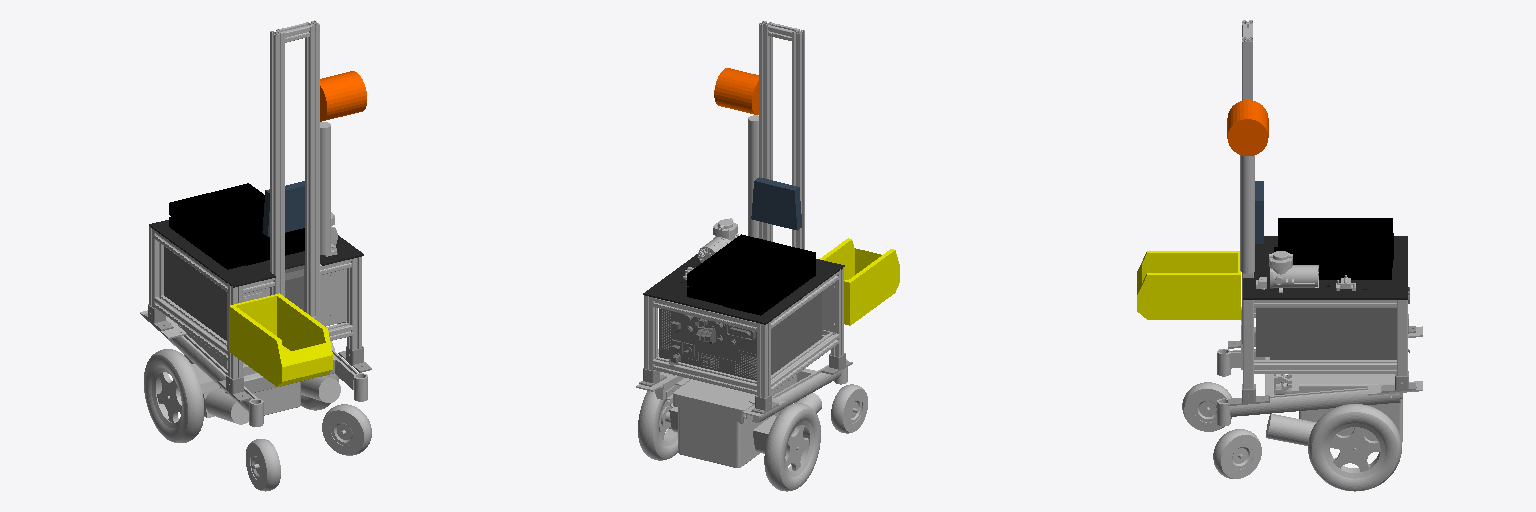
--- Facts derived from the render (not from the file) ---
The picture shows the robot from 3 angles, left to right: view 1: azimuth 30°, elevation 25°; view 2: azimuth 150°, elevation 25°; view 3: azimuth 270°, elevation 25°; orthographic projection.
Robot: abby — 29 links, 28 joints (6 continuous, 22 fixed); root link frame1; default pose: all joints at 0.
Links seen in each view (by area): view 1: frame1, bin, frame_solid:11, PC1, r_drive wheel1, IRC5_Compact1, top_plate1, l_caster_wheel1, light, r_caster_wheel1, tanks, router1; view 2: frame1, frame_solid:11, IRC5_Compact1, PC1, r_drive wheel1, bin, top_plate1, router1, l_drive_wheel1, light, r_caster_wheel1, tanks (+1 smaller); view 3: frame_solid:11, IRC5_Compact1, bin, PC1, frame1, l_drive_wheel1, top_plate1, light, l_caster_wheel1, tanks, r_caster_wheel1, compressor1 (+1 smaller).
Boxes of the visible links, bbox=[...] form: frame1: bbox=[149, 20, 361, 378]; bin: bbox=[229, 293, 332, 386]; frame_solid:11: bbox=[167, 323, 367, 426]; PC1: bbox=[169, 183, 304, 269]; r_drive wheel1: bbox=[144, 349, 203, 442]; IRC5_Compact1: bbox=[164, 246, 329, 340]; top_plate1: bbox=[149, 220, 363, 287]; l_caster_wheel1: bbox=[322, 404, 371, 455]; light: bbox=[320, 71, 366, 121]; r_caster_wheel1: bbox=[246, 439, 280, 491]; tanks: bbox=[320, 122, 330, 254]; router1: bbox=[262, 181, 304, 236]; frame1: bbox=[644, 21, 843, 397]; frame_solid:11: bbox=[655, 359, 847, 467]; IRC5_Compact1: bbox=[659, 292, 821, 380]; PC1: bbox=[687, 234, 815, 315]; r_drive wheel1: bbox=[764, 403, 820, 491]; bin: bbox=[820, 238, 899, 325]; top_plate1: bbox=[643, 254, 844, 324]; router1: bbox=[751, 177, 801, 230]; l_drive_wheel1: bbox=[638, 391, 677, 460]; light: bbox=[714, 68, 758, 114]; r_caster_wheel1: bbox=[831, 384, 867, 433]; tanks: bbox=[748, 115, 758, 237]; frame_solid:11: bbox=[1217, 349, 1402, 451]; IRC5_Compact1: bbox=[1256, 287, 1409, 359]; bin: bbox=[1137, 251, 1240, 319]; PC1: bbox=[1274, 218, 1393, 279]; frame1: bbox=[1241, 20, 1407, 396]; l_drive_wheel1: bbox=[1308, 404, 1401, 491]; top_plate1: bbox=[1243, 236, 1407, 299]; light: bbox=[1227, 100, 1268, 155]; l_caster_wheel1: bbox=[1213, 429, 1261, 478]; tanks: bbox=[1240, 155, 1254, 273]; r_caster_wheel1: bbox=[1182, 382, 1231, 431]; compressor1: bbox=[1269, 251, 1318, 292].
Size in the robot's own frame: 0.6308 by 1.05 by 1.72 metres.
Meshes: 19 distinct files referenced, 20 mesh visuals loaded (15 binary STL); not drawn: 6 (reference not matched to a file when rendering).

The robot description file, URDF, robot "abby":
<?xml version="1.0" ?>
<!-- =================================================================================== -->
<!-- |    This document was autogenerated by xacro from abby_no_arm.xacro              | -->
<!-- |    EDITING THIS FILE BY HAND IS NOT RECOMMENDED                                 | -->
<!-- =================================================================================== -->
<robot name="abby" xmlns:controller="http://playerstage.sourceforge.net/gazebo/xmlschema/#controller" xmlns:interface="http://playerstage.sourceforge.net/gazebo/xmlschema/#interface" xmlns:sensor="http://playerstage.sourceforge.net/gazebo/xmlschema/#sensor" xmlns:xacro="http://ros.org/wiki/xacro">
  <joint name="base_laser_joint" type="fixed">
    <origin rpy="1.5707959092 0 -3.14159265358" xyz="-0.0255468119868 -0.474758386705 0.311455920061"/>
    <parent link="frame1"/>
    <origin rpy="0 0 0" xyz="0 0 0"/>
    <child link="SICK_LMS291"/>
  </joint>
  <link name="SICK_LMS291">
    <visual>
      <geometry>
        <mesh filename="package://cwru_description/meshes/sick_lms291.stl" scale="0.0254 0.0254 0.0254"/>
      </geometry>
      <origin rpy="0 0 0" xyz="-0.0683999139953 -0.00245779587475 -0.0929987962566"/>
      <material name="SICK_LMS2911_color">
        <color rgba="0.752941 0.752941 0.752941 1"/>
      </material>
    </visual>
    <inertial>
      <mass value="3.71737544502"/>
      <inertia ixx="0.0174805834039" ixy="-4.4195210288e-07" ixz="4.1599227461e-07" iyy="0.0127643577208" iyz="0.00072853444335" izz="0.0175041992098"/>
      <origin rpy="0 0 0" xyz="-0.0684016920036 0.0653465146418 -0.0708751847642"/>
    </inertial>
    <collision>
      <geometry>
        <mesh filename="package://cwru_description/meshes/sick_lms291.stl" scale="0.0254 0.0254 0.0254"/>
      </geometry>
      <origin rpy="0 0 0" xyz="-0.0683999139953 -0.00245779587475 -0.0929987962566"/>
    </collision>
  </link>
  <link name="base_laser1_link">
    <inertial>
      <mass value="0.01"/>
      <origin xyz="0 0 0"/>
      <inertia ixx="0.001" ixy="0.0" ixz="0.0" iyy="0.001" iyz="0.0" izz="0.001"/>
    </inertial>
  </link>
  <joint name="SICK_laser_frame_joint" type="fixed">
    <origin rpy="1.266 1.571 2.837" xyz="-0.0683999139953 0.035 -0.0273"/>
    <parent link="SICK_LMS291"/>
    <child link="base_laser1_link"/>
  </joint>
  <link name="frame1">
    <visual>
      <geometry>
        <mesh filename="package://abby_description/meshes/al_frame_iam_3826baa4.stl" scale="0.0254 0.0254 0.0254"/>
      </geometry>
      <origin rpy="0 0 0" xyz="0.0446356739978 0.177065647653 -0.0893087163603"/>
      <material name="frame1_color">
        <color rgba="0.752941 0.752941 0.752941 1"/>
      </material>
    </visual>
    <inertial>
      <mass value="12.7774249075"/>
      <inertia ixx="2.11995607184" ixy="-0.0128393605839" ixz="-0.0068818565379" iyy="1.84586933127" iyz="0.34872380742" izz="1.11710077832"/>
      <origin rpy="0 0 0" xyz="0.0382793240557 -0.271251963735 0.649589084908"/>
    </inertial>
    <collision>
      <geometry>
        <mesh filename="package://abby_description/meshes/al_frame_iam_3826baa4.stl" scale="0.0254 0.0254 0.0254"/>
      </geometry>
      <origin rpy="0 0 0" xyz="0.0446356739978 0.177065647653 -0.0893087163603"/>
    </collision>
  </link>
  <link name="f_r_frame_bracket1">
    <visual>
      <geometry>
        <mesh filename="package://abby_description/meshes/frame bracket_ipt_f5a4f28d.stl" scale="0.0254 0.0254 0.0254"/>
      </geometry>
      <origin rpy="0 0 0" xyz="-0.0946635865578 -0.0205552039632 -0.424782665556"/>
      <material name="f_r_frame_bracket1_color">
        <color rgba="0.639216 0.639216 0.639216 1"/>
      </material>
    </visual>
    <inertial>
      <mass value="0.71440798275"/>
      <inertia ixx="0.00043051877529" ixy="0.0" ixz="-1.18150140291e-05" iyy="0.00109167940213" iyz="0.0" izz="0.00105983757016"/>
      <origin rpy="0 0 0" xyz="-0.0175668955453 0.00484479603152 -0.408054413923"/>
    </inertial>
    <collision>
      <geometry>
        <mesh filename="package://abby_description/meshes/frame bracket_ipt_f5a4f28d.stl" scale="0.0254 0.0254 0.0254"/>
      </geometry>
      <origin rpy="0 0 0" xyz="-0.0946635865578 -0.0205552039632 -0.424782665556"/>
    </collision>
  </link>
  <joint name="frame--f_r_frame_bracket1" type="fixed">
    <parent link="frame1"/>
    <child link="f_r_frame_bracket1"/>
    <origin rpy="0 -0.0938814541614 1.5707963268" xyz="-0.197196963951 -0.46840807491 0.660027160644"/>
  </joint>
  <link name="f_l_frame_bracket1">
    <visual>
      <geometry>
        <mesh filename="package://abby_description/meshes/frame bracket_ipt_f5a4f28d.stl" scale="0.0254 0.0254 0.0254"/>
      </geometry>
      <origin rpy="0 0 0" xyz="-0.050800692836 -0.0508000000121 -0.00634958439213"/>
      <material name="f_l_frame_bracket1_color">
        <color rgba="0.639216 0.639216 0.639216 1"/>
      </material>
    </visual>
    <inertial>
      <mass value="0.71440798275"/>
      <inertia ixx="0.00043051877529" ixy="0.0" ixz="-1.18150140291e-05" iyy="0.00109167940213" iyz="0.0" izz="0.00105983757016"/>
      <origin rpy="0 0 0" xyz="0.026295998169 -0.025399999994 0.0103786672398"/>
    </inertial>
    <collision>
      <geometry>
        <mesh filename="package://abby_description/meshes/frame bracket_ipt_f5a4f28d.stl" scale="0.0254 0.0254 0.0254"/>
      </geometry>
      <origin rpy="0 0 0" xyz="-0.050800692836 -0.0508000000121 -0.00634958439213"/>
    </collision>
  </link>
  <joint name="f_l_frame_bracket--f_r_frame_bracket1" type="fixed">
    <parent link="f_r_frame_bracket1"/>
    <child link="f_l_frame_bracket1"/>
    <origin rpy="0 0 0" xyz="-0.0438628937327 -0.464082383966 -0.418433081198"/>
  </joint>
  <link name="f_l_frame_plate1">
    <visual>
      <geometry>
        <mesh filename="package://abby_description/meshes/front frame plate_ipt_3e5bfe16.stl" scale="0.0254 0.0254 0.0254"/>
      </geometry>
      <origin rpy="0 0 0" xyz="0 0 0"/>
      <material name="f_l_frame_plate1_color">
        <color rgba="0.752941 0.752941 0.752941 1"/>
      </material>
    </visual>
    <inertial>
      <mass value="0.072583397455"/>
      <inertia ixx="0.000139975007751" ixy="0.0" ixz="0.0" iyy="3.5475798236e-05" iyz="0.0" izz="0.000174962980108"/>
      <origin rpy="0 0 0" xyz="0.0380034800186 0.0762017426097 0.00317605933453"/>
    </inertial>
    <collision>
      <geometry>
        <mesh filename="package://abby_description/meshes/front frame plate_ipt_3e5bfe16.stl" scale="0.0254 0.0254 0.0254"/>
      </geometry>
      <origin rpy="0 0 0" xyz="0 0 0"/>
    </collision>
  </link>
  <joint name="f_l_frame_plate--f_l_frame_bracket1" type="fixed">
    <parent link="f_l_frame_bracket1"/>
    <child link="f_l_frame_plate1"/>
    <origin rpy="-3.14159265359 0 1.57079632679" xyz="-0.050800692836 -0.0508000000121 -0.00634958439213"/>
  </joint>
  <link name="f_r_frame_plate1">
    <visual>
      <geometry>
        <mesh filename="package://abby_description/meshes/front frame plate_ipt_3e5bfe16.stl" scale="0.0254 0.0254 0.0254"/>
      </geometry>
      <origin rpy="0 0 0" xyz="-0.0381000000045 -0.0762009322898 -0.00634941359797"/>
      <material name="f_r_frame_plate1_color">
        <color rgba="0.752941 0.752941 0.752941 1"/>
      </material>
    </visual>
    <inertial>
      <mass value="0.072583397455"/>
      <inertia ixx="0.000139975007751" ixy="0.0" ixz="0.0" iyy="3.5475798236e-05" iyz="0.0" izz="0.000174962980108"/>
      <origin rpy="0 0 0" xyz="-9.52500002381e-05 9.97890829302e-07 -0.00317559036918"/>
    </inertial>
    <collision>
      <geometry>
        <mesh filename="package://abby_description/meshes/front frame plate_ipt_3e5bfe16.stl" scale="0.0254 0.0254 0.0254"/>
      </geometry>
      <origin rpy="0 0 0" xyz="-0.0381000000045 -0.0762009322898 -0.00634941359797"/>
    </collision>
  </link>
  <joint name="f_r_frame_plate--f_r_frame_bracket1" type="fixed">
    <parent link="f_r_frame_bracket1"/>
    <child link="f_r_frame_plate1"/>
    <origin rpy="0 0 -1.57079632679" xyz="-0.0184628418291 -0.00785520396718 -0.424783134521"/>
  </joint>
  <link name="b_r_frame_bracket1">
    <visual>
      <geometry>
        <mesh filename="package://abby_description/meshes/short frame bracket_ipt_f5a4f28d.stl" scale="0.0254 0.0254 0.0254"/>
      </geometry>
      <origin rpy="0 0 0" xyz="-0.0774480173821 -0.0263550400145 -0.00822489041407"/>
      <material name="b_r_frame_bracket1_color">
        <color rgba="0.639216 0.639216 0.639216 1"/>
      </material>
    </visual>
    <inertial>
      <mass value="0.71440798275"/>
      <inertia ixx="0.00044432538895" ixy="0.0" ixz="-8.3387205787e-05" iyy="0.00086832128551" iyz="0.0" izz="0.00083243813657"/>
      <origin rpy="0 0 0" xyz="-0.00691246125573 -0.000955040002614 0.00995368760594"/>
    </inertial>
    <collision>
      <geometry>
        <mesh filename="package://abby_description/meshes/short frame bracket_ipt_f5a4f28d.stl" scale="0.0254 0.0254 0.0254"/>
      </geometry>
      <origin rpy="0 0 0" xyz="-0.0774480173821 -0.0263550400145 -0.00822489041407"/>
    </collision>
  </link>
  <joint name="frame--b_r_frame_bracket1" type="fixed">
    <parent link="frame1"/>
    <child link="b_r_frame_bracket1"/>
    <origin rpy="0 -0.0938814541614 1.57079632654" xyz="-0.202996799965 0.113567247403 0.29642350598"/>
  </joint>
  <link name="b_r_frame_plate1">
    <visual>
      <geometry>
        <mesh filename="package://abby_description/meshes/back frame plate_ipt_475e4947.stl" scale="0.0254 0.0254 0.0254"/>
      </geometry>
      <origin rpy="0 0 0" xyz="-0.0254000000255 -0.126998971214 1.58112569598e-06"/>
      <material name="b_r_frame_plate1_color">
        <color rgba="0.752941 0.752941 0.752941 1"/>
      </material>
    </visual>
    <inertial>
      <mass value="0.0971640215777"/>
      <inertia ixx="0.0003344255636" ixy="8.4155085275e-07" ixz="0.0" iyy="4.7517225512e-05" iyz="0.0" izz="0.00038129137915"/>
      <origin rpy="0 0 0" xyz="0.0126431039946 -0.025550836608 0.00317565745359"/>
    </inertial>
    <collision>
      <geometry>
        <mesh filename="package://abby_description/meshes/back frame plate_ipt_475e4947.stl" scale="0.0254 0.0254 0.0254"/>
      </geometry>
      <origin rpy="0 0 0" xyz="-0.0254000000255 -0.126998971214 1.58112569598e-06"/>
    </collision>
  </link>
  <joint name="b_r_frame_plate--b_r_frame_bracket1" type="fixed">
    <parent link="b_r_frame_bracket1"/>
    <child link="b_r_frame_plate1"/>
    <origin rpy="3.14159265359 0 -1.57079632679" xyz="-0.0520471238425 -0.000955040009423 -0.00822349691669"/>
  </joint>
  <link name="IRC5_Compact1">
    <visual>
      <geometry>
        <mesh filename="package://abby_description/meshes/irc5_compact_ipt_c844072c.stl" scale="0.0254 0.0254 0.0254"/>
      </geometry>
      <origin rpy="0 0 0" xyz="-0.000849884100615 0.0283509919265 -0.462400284136"/>
      <material name="IRC5_Compact1_color">
        <color rgba="0.498039 0.498039 0.498039 1"/>
      </material>
    </visual>
    <inertial>
      <mass value="28.440241599"/>
      <inertia ixx="0.75499468089" ixy="-0.00122306756239" ixz="-0.00124304296401" iyy="1.08063235538" iyz="-0.0064925615368" izz="0.61093241216"/>
      <origin rpy="0 0 0" xyz="-0.225686620068 0.151686511222 -0.249482492333"/>
    </inertial>
    <collision>
      <geometry>
        <mesh filename="package://abby_description/meshes/irc5_compact_ipt_c844072c.stl" scale="0.0254 0.0254 0.0254"/>
      </geometry>
      <origin rpy="0 0 0" xyz="-0.000849884100615 0.0283509919265 -0.462400284136"/>
    </collision>
  </link>
  <joint name="frame--IRC5_Compact1" type="fixed">
    <parent link="frame1"/>
    <child link="IRC5_Compact1"/>
    <origin rpy="1.5707959092 0 3.14159265334" xyz="-0.18299683996 0.0935673788127 0.353829950251"/>
  </joint>
  <link name="router1">
    <visual>
      <geometry>
        <mesh filename="package://abby_description/meshes/router keepout_ipt_2b3ba7b4.stl" scale="0.0254 0.0254 0.0254"/>
      </geometry>
      <origin rpy="0 0 0" xyz="0.0783000719655 0.725341498268 -1.11194969221e-06"/>
      <material name="router1_color">
        <color rgba="0.25098 0.321569 0.392157 1"/>
      </material>
    </visual>
    <inertial>
      <mass value="0.28349523125"/>
      <inertia ixx="0.00067729370465" ixy="0.0" ixz="0.0" iyy="0.0008954399563" iyz="0.0" izz="0.00150414540089"/>
      <origin rpy="0 0 0" xyz="0.0783000719663 0.727175853591 0.0190494073449"/>
    </inertial>
    <collision>
      <geometry>
        <mesh filename="package://abby_description/meshes/router keepout_ipt_2b3ba7b4.stl" scale="0.0254 0.0254 0.0254"/>
      </geometry>
      <origin rpy="0 0 0" xyz="0.0783000719655 0.725341498268 -1.11194969221e-06"/>
    </collision>
  </link>
  <joint name="frame--router1" type="fixed">
    <parent link="frame1"/>
    <child link="router1"/>
    <origin rpy="-1.5707959092 0 0" xyz="-0.0354469698523 -0.430316747951 1.61002981286"/>
  </joint>
  <link name="base_plate1">
    <visual>
      <geometry>
        <mesh filename="package://abby_description/meshes/base plate_iam_348b8023.stl" scale="0.0254 0.0254 0.0254"/>
      </geometry>
      <origin rpy="0 0 0" xyz="-0.296284250178 -0.709693779926 -0.581261979343"/>
      <material name="base_plate1_color">
        <color rgba="0.752941 0.752941 0.752941 1"/>
      </material>
    </visual>
    <inertial>
      <mass value="11.253309185"/>
      <inertia ixx="0.192702049774" ixy="-0.0128927375727" ixz="-0.00057983680454" iyy="0.235790506928" iyz="0.002976996201" izz="0.41200655867"/>
      <origin rpy="0 0 0" xyz="-0.259429264405 -0.197794168785 -0.0311541484255"/>
    </inertial>
    <collision>
      <geometry>
        <mesh filename="package://abby_description/meshes/base plate_iam_348b8023.stl" scale="0.0254 0.0254 0.0254"/>
      </geometry>
      <origin rpy="0 0 0" xyz="-0.296284250178 -0.709693779926 -0.581261979343"/>
    </collision>
  </link>
  <joint name="frame--base_plate1" type="fixed">
    <parent link="frame1"/>
    <child link="base_plate1"/>
    <origin rpy="0 0 1.5707963268" xyz="-0.182996839959 0.0950674391444 0.365829741316"/>
  </joint>
  <link name="top_plate1">
    <visual>
      <geometry>
        <mesh filename="package://abby_description/meshes/top plate_ipt_9041f1eb.stl" scale="0.0254 0.0254 0.0254"/>
      </geometry>
      <origin rpy="0 0 0" xyz="-0.039999919998 -0.0370003177082 -0.00635046315153"/>
      <material name="top_plate1_color">
        <color rgba="0.2 0.2 0.2 1"/>
      </material>
    </visual>
    <inertial>
      <mass value="2.41906254029"/>
      <inertia ixx="0.070476646621" ixy="-3.2774173452e-05" ixz="0.0" iyy="0.05993791034" iyz="0.0" izz="0.130398461926"/>
      <origin rpy="0 0 0" xyz="0.229580439988 0.257942378411 -0.00317445298106"/>
    </inertial>
    <collision>
      <geometry>
        <mesh filename="package://abby_description/meshes/top plate_ipt_9041f1eb.stl" scale="0.0254 0.0254 0.0254"/>
      </geometry>
      <origin rpy="0 0 0" xyz="-0.039999919998 -0.0370003177082 -0.00635046315153"/>
    </collision>
  </link>
  <joint name="frame--top_plate1" type="fixed">
    <parent link="frame1"/>
    <child link="top_plate1"/>
    <origin rpy="-3.14159265359 0 0" xyz="-0.182996839929 0.0965675138916 0.656087848989"/>
  </joint>
  <link name="main_breaker1">
    <visual>
      <geometry>
        <mesh filename="package://abby_description/meshes/breaker_iam_746c8f85.stl" scale="0.0254 0.0254 0.0254"/>
      </geometry>
      <origin rpy="0 0 0" xyz="-0.0160837880011 -0.0289106364367 0.00508056290676"/>
      <material name="main_breaker1_color">
        <color rgba="0.752941 0.752941 0.752941 1"/>
      </material>
    </visual>
    <inertial>
      <mass value="0.0936536702263"/>
      <inertia ixx="3.6925814571e-05" ixy="-4.3535021216e-06" ixz="1.05382973255e-07" iyy="2.44166070505e-05" iyz="-2.55254379072e-12" izz="4.8649438065e-05"/>
      <origin rpy="0 0 0" xyz="-0.0161287460005 -0.0289109627394 0.0153385723229"/>
    </inertial>
    <collision>
      <geometry>
        <mesh filename="package://abby_description/meshes/breaker_iam_746c8f85.stl" scale="0.0254 0.0254 0.0254"/>
      </geometry>
      <origin rpy="0 0 0" xyz="-0.0160837880011 -0.0289106364367 0.00508056290676"/>
    </collision>
  </link>
  <joint name="main_breaker--top_plate1" type="fixed">
    <parent link="top_plate1"/>
    <child link="main_breaker1"/>
    <origin rpy="3.14159265359 0 0" xyz="0.426298867993 0.159767684312 -0.00635046455001"/>
  </joint>
  <link name="compressor1">
    <visual>
      <geometry>
        <mesh filename="package://abby_description/meshes/compressor_iam_e870b89.stl" scale="0.0254 0.0254 0.0254"/>
      </geometry>
      <origin rpy="0 0 0" xyz="0.217095026073 0.0541649919903 0.058507418554"/>
      <material name="compressor1_color">
        <color rgba="0.752941 0.752941 0.752941 1"/>
      </material>
    </visual>
    <inertial>
      <mass value="2.12621423437"/>
      <inertia ixx="-0.0061140063136" ixy="0.0073422915937" ixz="0.0121866630191" iyy="-0.0247184035886" iyz="0.0043080263318" izz="-0.0223276763534"/>
      <origin rpy="0 0 0" xyz="0.0555649192101 -0.000189230004887 -0.0360164073274"/>
    </inertial>
    <collision>
      <geometry>
        <box size="0.26 0.12 0.27"/>
        <!--mesh filename="package://abby_description/meshes/compressor_iam_e870b89.stl" scale="0.0254 0.0254 0.0254"/-->
      </geometry>
      <origin rpy="0 0 0" xyz="0.13 0 -0.015"/>
      <!-- For box -->
      <!--origin rpy="0 0 0" xyz="0.217095026073 0.0541649919903 0.058507418554"/-->
      <!--For mesh -->
    </collision>
  </link>
  <joint name="compressor--top_plate1" type="fixed">
    <parent link="top_plate1"/>
    <child link="compressor1"/>
    <origin rpy="2.35090778551e-05 1.5707959092 1.57081983614" xyz="0.40450007998 0.426550996313 -0.00635023492284"/>
  </joint>
  <link name="PC1">
    <visual>
      <geometry>
        <mesh filename="package://abby_description/meshes/pc_ipt_a7ade237.stl" scale="0.0254 0.0254 0.0254"/>
      </geometry>
      <origin rpy="0 0 0" xyz="0 -0.095249567657 -1.9383533062e-07"/>
      <material name="PC1_color">
        <color rgba="0 0 0 1"/>
      </material>
    </visual>
    <inertial>
      <mass value="13.0796535036"/>
      <inertia ixx="0.199045542023" ixy="0.000104306361732" ixz="0.00061701926176" iyy="0.3078833877" iyz="0.000148148651798" izz="0.128774326576"/>
      <origin rpy="0 0 0" xyz="0.164833477815 -0.0476494270341 0.207873207523"/>
    </inertial>
    <collision>
      <geometry>
        <mesh filename="package://abby_description/meshes/pc_ipt_a7ade237.stl" scale="0.0254 0.0254 0.0254"/>
      </geometry>
      <origin rpy="0 0 0" xyz="0 -0.095249567657 -1.9383533062e-07"/>
    </collision>
  </link>
  <joint name="PC--top_plate1" type="fixed">
    <parent link="top_plate1"/>
    <child link="PC1"/>
    <origin rpy="1.57079674439 0 0" xyz="0.0108000799797 0.436074033464 -0.00635125529283"/>
  </joint>
  <link name="spike_relay1">
    <visual>
      <geometry>
        <mesh filename="package://abby_description/meshes/spike h_iam_f19c9874.stl" scale="0.0254 0.0254 0.0254"/>
      </geometry>
      <origin rpy="0 0 0" xyz="0.165495388905 -0.231988605905 -4.80033572003e-07"/>
      <material name="spike_relay1_color">
        <color rgba="0.752941 0.752941 0.752941 1"/>
      </material>
    </visual>
    <inertial>
      <mass value="0.02553552678"/>
      <inertia ixx="4.8431130863e-06" ixy="-7.8309953837e-09" ixz="-2.27668366993e-09" iyy="8.2511635883e-06" iyz="-1.99978761416e-07" izz="1.02136458377e-05"/>
      <origin rpy="0 0 0" xyz="0.16538182583 -0.230617385381 0.00965819617544"/>
    </inertial>
    <collision>
      <geometry>
        <mesh filename="package://abby_description/meshes/spike h_iam_f19c9874.stl" scale="0.0254 0.0254 0.0254"/>
      </geometry>
      <origin rpy="0 0 0" xyz="0.165495388905 -0.231988605905 -4.80033572003e-07"/>
    </collision>
  </link>
  <joint name="top_plate--spike_relay1" type="fixed">
    <parent link="top_plate1"/>
    <child link="spike_relay1"/>
    <origin rpy="3.14159264636 0 0.00520380555278" xyz="0.229875079988 0.264625478066 -0.00635030519039"/>
  </joint>
  <link name="b_l_frame_bracket1">
    <visual>
      <geometry>
        <mesh filename="package://abby_description/meshes/short frame bracket_ipt_f5a4f28d.stl" scale="0.0254 0.0254 0.0254"/>
      </geometry>
      <origin rpy="0 0 0" xyz="-0.0635428211507 -0.00444500001769 -0.0603982600527"/>
      <material name="b_l_frame_bracket1_color">
        <color rgba="0.639216 0.639216 0.639216 1"/>
      </material>
    </visual>
    <inertial>
      <mass value="0.71440798275"/>
      <inertia ixx="0.00044432538895" ixy="0.0" ixz="-8.3387205787e-05" iyy="0.00086832128551" iyz="0.0" izz="0.00083243813657"/>
      <origin rpy="0 0 0" xyz="0.00699273497077 0.020955000008 -0.0422196820327"/>
    </inertial>
    <collision>
      <geometry>
        <mesh filename="package://abby_description/meshes/short frame bracket_ipt_f5a4f28d.stl" scale="0.0254 0.0254 0.0254"/>
      </geometry>
      <origin rpy="0 0 0" xyz="-0.0635428211507 -0.00444500001769 -0.0603982600527"/>
    </collision>
  </link>
  <joint name="b_l_frame_bracket--frame1" type="fixed">
    <parent link="frame1"/>
    <child link="b_l_frame_bracket1"/>
    <origin rpy="0 -0.0938814541614 1.57079632635" xyz="0.313240420039 0.0948323645811 0.347063600205"/>
  </joint>
  <link name="b_l_frame_plate1">
    <visual>
      <geometry>
        <mesh filename="package://abby_description/meshes/back frame plate_ipt_475e4947.stl" scale="0.0254 0.0254 0.0254"/>
      </geometry>
      <origin rpy="0 0 0" xyz="0 0 0"/>
      <material name="b_l_frame_plate1_color">
        <color rgba="0.752941 0.752941 0.752941 1"/>
      </material>
    </visual>
    <inertial>
      <mass value="0.0971640215777"/>
      <inertia ixx="0.0003344255636" ixy="8.4155085275e-07" ixz="0.0" iyy="4.7517225512e-05" iyz="0.0" izz="0.00038129137915"/>
      <origin rpy="0 0 0" xyz="0.0380441199796 0.101448124476 0.00317600333501"/>
    </inertial>
    <collision>
      <geometry>
        <mesh filename="package://abby_description/meshes/back frame plate_ipt_475e4947.stl" scale="0.0254 0.0254 0.0254"/>
      </geometry>
      <origin rpy="0 0 0" xyz="0 0 0"/>
    </collision>
  </link>
  <joint name="b_l_frame_plate--b_l_frame_bracket1" type="fixed">
    <parent link="b_l_frame_bracket1"/>
    <child link="b_l_frame_plate1"/>
    <origin rpy="0 0 1.57079632699" xyz="0.0888570334677 -0.00444499995661 -0.0667485273456"/>
  </joint>
  <link name="frame_solid:11">
    <visual>
      <geometry>
        <mesh filename="package://abby_description/meshes/frame_solid_iam_8d469021.stl" scale="0.0254 0.0254 0.0254"/>
      </geometry>
      <origin rpy="0 0 0" xyz="-3.47155770013 -0.38147033036 2.30808809655"/>
      <material name="frame_solid:11_color">
        <color rgba="0.752941 0.752941 0.752941 1"/>
      </material>
    </visual>
    <inertial>
      <mass value="76.9265443978"/>
      <inertia ixx="-0.199581653007" ixy="-0.082679316884" ixz="0.0112391336768" iyy="2.03829571699" iyz="-0.249221082043" izz="-0.62699233072"/>
      <origin rpy="0 0 0" xyz="-0.250028710016 -0.128949655059 0.228101121891"/>
    </inertial>
    <collision>
      <geometry>
        <mesh filename="package://abby_description/meshes/frame_solid_iam_8d469021.stl" scale="0.0254 0.0254 0.0254"/>
      </geometry>
      <origin rpy="0 0 0" xyz="-3.47155770013 -0.38147033036 2.30808809655"/>
    </collision>
  </link>
  <joint name="b_l_frame_plate--frame_solid:11" type="fixed">
    <parent link="b_l_frame_plate1"/>
    <child link="frame_solid:11"/>
    <origin rpy="1.47691420527 0 -3.14159265334" xyz="0.0380441199796 0.101448124476 0.00317600333501"/>
  </joint>
  <link name="l_caster1">
    <visual>
      <geometry>
        <mesh filename="package://abby_description/meshes/caster_ipt_ca03a3d7.stl" scale="0.0254 0.0254 0.0254"/>
      </geometry>
      <origin rpy="0 0 0" xyz="8.42753967015e-07 -0.13652463702 -0.0253998728835"/>
      <material name="l_caster1_color">
        <color rgba="0 0 0 1"/>
      </material>
    </visual>
    <inertial>
      <mass value="0.141176996424"/>
      <inertia ixx="0.00051323847608" ixy="0.0" ixz="0.0" iyy="0.00026112292147" iyz="0.000151341028831" izz="0.00058482333902"/>
      <origin rpy="0 0 0" xyz="-2.95905491936e-07 -0.0595480601633 0.018131413861"/>
    </inertial>
    <collision>
      <geometry>
        <mesh filename="package://abby_description/meshes/caster_ipt_ca03a3d7.stl" scale="0.0254 0.0254 0.0254"/>
      </geometry>
      <origin rpy="0 0 0" xyz="8.42753967015e-07 -0.13652463702 -0.0253998728835"/>
    </collision>
  </link>
  <joint name="l_caster_joint" type="continuous">
    <parent link="frame_solid:11"/>
    <child link="l_caster1"/>
    <axis xyz="0 1 0"/>
    <origin rpy="3.14159154933 -0.529419117266 -3.1415922637" xyz="-0.016388080036 -0.149221796489 0.625818601504"/>
  </joint>
  <link name="l_caster_wheel1">
    <visual>
      <geometry>
        <mesh filename="package://abby_description/meshes/caster wheel_ipt_4784d7d8.stl" scale="0.0254 0.0254 0.0254"/>
      </geometry>
      <origin rpy="0 0 0" xyz="-1.18418908775e-06 -0.0380989161968 -1.67691861175e-06"/>
      <material name="l_caster_wheel1_color">
        <color rgba="0.752941 0.752941 0.752941 1"/>
      </material>
    </visual>
    <inertial>
      <mass value="1.4177347039"/>
      <inertia ixx="0.0034966317219" ixy="0.0" ixz="0.0" iyy="0.0063467697834" iyz="0.0" izz="0.0034966317219"/>
      <origin rpy="0 0 0" xyz="-1.18418908775e-06 -0.0380989161968 -1.67691861175e-06"/>
    </inertial>
    <collision>
      <geometry>
        <mesh filename="package://abby_description/meshes/caster wheel_ipt_4784d7d8.stl" scale="0.0254 0.0254 0.0254"/>
      </geometry>
      <origin rpy="0 0 0" xyz="-1.18418908775e-06 -0.0380989161968 -1.67691861175e-06"/>
    </collision>
  </link>
  <joint name="l_caster_wheel_joint" type="continuous">
    <parent link="l_caster1"/>
    <child link="l_caster_wheel1"/>
    <axis xyz="0 1 0"/>
    <origin rpy="6.29554520079e-07 -0.0978245101151 -1.57079646214" xyz="0.0374386651859 -0.136525432368 0.0571509283666"/>
  </joint>
  <link name="r_caster1">
    <visual>
      <geometry>
        <mesh filename="package://abby_description/meshes/caster_ipt_ca03a3d7.stl" scale="0.0254 0.0254 0.0254"/>
      </geometry>
      <origin rpy="0 0 0" xyz="-1.44488080778e-07 -0.136524926369 -0.0254000128924"/>
      <material name="r_caster1_color">
        <color rgba="0 0 0 1"/>
      </material>
    </visual>
    <inertial>
      <mass value="0.141176996424"/>
      <inertia ixx="0.00051323847608" ixy="0.0" ixz="0.0" iyy="0.00026112292147" iyz="0.000151341028831" izz="0.00058482333902"/>
      <origin rpy="0 0 0" xyz="1.20291708094e-07 -0.0595479590544 0.0181329136137"/>
    </inertial>
    <collision>
      <geometry>
        <mesh filename="package://abby_description/meshes/caster_ipt_ca03a3d7.stl" scale="0.0254 0.0254 0.0254"/>
      </geometry>
      <origin rpy="0 0 0" xyz="-1.44488080778e-07 -0.136524926369 -0.0254000128924"/>
    </collision>
  </link>
  <joint name="r_caster_joint" type="continuous">
    <parent link="frame_solid:11"/>
    <child link="r_caster1"/>
    <axis xyz="0 1 0"/>
    <origin rpy="0 -0.0645005439914 0" xyz="-0.446765426036 -0.149221796474 0.625818601482"/>
  </joint>
  <link name="r_caster_wheel1">
    <visual>
      <geometry>
        <mesh filename="package://abby_description/meshes/caster wheel_ipt_4784d7d8.stl" scale="0.0254 0.0254 0.0254"/>
      </geometry>
      <origin rpy="0 0 0" xyz="-1.43565576272e-06 -0.0380999206774 0"/>
      <material name="r_caster_wheel1_color">
        <color rgba="0.752941 0.752941 0.752941 1"/>
      </material>
    </visual>
    <inertial>
      <mass value="1.4177347039"/>
      <inertia ixx="0.0034966317219" ixy="0.0" ixz="0.0" iyy="0.0063467697834" iyz="0.0" izz="0.0034966317219"/>
      <origin rpy="0 0 0" xyz="-1.43565576272e-06 -0.0380999206774 0"/>
    </inertial>
    <collision>
      <geometry>
        <mesh filename="package://abby_description/meshes/caster wheel_ipt_4784d7d8.stl" scale="0.0254 0.0254 0.0254"/>
      </geometry>
      <origin rpy="0 0 0" xyz="-1.43565576272e-06 -0.0380999206774 0"/>
    </collision>
  </link>
  <joint name="r_caster_wheel_joint" type="continuous">
    <parent link="r_caster1"/>
    <child link="r_caster_wheel1"/>
    <axis xyz="0 1 0"/>
    <origin rpy="-2.44191411285e-07 0.632428512243 -1.570796684" xyz="0.0374395826544 -0.13652471423 0.0571493788518"/>
  </joint>
  <link name="l_drive_wheel1">
    <visual>
      <geometry>
        <mesh filename="package://abby_description/meshes/wheel_ipt_982fa4fe.stl" scale="0.0254 0.0254 0.0254"/>
      </geometry>
      <origin rpy="0 0 0" xyz="0 0 0"/>
      <material name="l_drive_wheel1_color">
        <color rgba="0.752941 0.752941 0.752941 1"/>
      </material>
    </visual>
    <inertial>
      <mass value="3.52668067675"/>
      <inertia ixx="0.032456077033" ixy="0.0" ixz="0.0" iyy="0.062503458919" iyz="0.0" izz="0.032456077033"/>
      <origin rpy="0 0 0" xyz="0 -0.00071882 0"/>
    </inertial>
    <collision>
      <geometry>
        <mesh filename="package://abby_description/meshes/wheel_ipt_982fa4fe.stl" scale="0.0254 0.0254 0.0254"/>
      </geometry>
      <origin rpy="0 0 0" xyz="0 0 0"/>
    </collision>
  </link>
  <joint name="l_drive_wheel_joint" type="continuous">
    <parent link="frame_solid:11"/>
    <child link="l_drive_wheel1"/>
    <axis xyz="0 -1 0"/>
    <origin rpy="0 -0.119809660819 1.57079632679" xyz="0.0466801199851 -0.217162738547 0.147715939724"/>
  </joint>
  <link name="r_drive wheel1">
    <visual>
      <geometry>
        <mesh filename="package://abby_description/meshes/wheel_ipt_982fa4fe.stl" scale="0.0254 0.0254 0.0254"/>
      </geometry>
      <origin rpy="0 0 0" xyz="0 0 0"/>
      <material name="r_drive wheel1_color">
        <color rgba="0.752941 0.752941 0.752941 1"/>
      </material>
    </visual>
    <inertial>
      <mass value="3.52668067675"/>
      <inertia ixx="0.032456077033" ixy="0.0" ixz="0.0" iyy="0.062503458919" iyz="0.0" izz="0.032456077033"/>
      <origin rpy="0 0 0" xyz="0 -0.000718058 0"/>
    </inertial>
    <collision>
      <geometry>
        <mesh filename="package://abby_description/meshes/wheel_ipt_982fa4fe.stl" scale="0.0254 0.0254 0.0254"/>
      </geometry>
      <origin rpy="0 0 0" xyz="0 0 0"/>
    </collision>
  </link>
  <joint name="r_drive_wheel_joint" type="continuous">
    <parent link="frame_solid:11"/>
    <child link="r_drive wheel1"/>
    <axis xyz="0 1 0"/>
    <origin rpy="0 -0.443332433305 -1.57079632679" xyz="-0.509833626015 -0.217162738527 0.147715939697"/>
  </joint>
  <link name="bin">
    <visual>
      <geometry>
        <mesh filename="package://abby_description/meshes/bin_ipt.stl" scale="0.0254 0.0254 0.0254"/>
      </geometry>
      <origin rpy="0 0 0" xyz="0 0 0"/>
      <material name="yellow bin plastic">
        <color rgba="0.98 0.98 0 1"/>
      </material>
    </visual>
    <inertial>
      <mass value="4.36697868587"/>
      <inertia ixx="0.044427271429" ixy="0.00203259222186" ixz="-1.69295186692e-05" iyy="0.100418971824" iyz="3.3400709269e-06" izz="0.080242528585"/>
      <origin rpy="0 0 0" xyz="0.17978882 -0.0977169394 0.104752255"/>
    </inertial>
    <collision>
      <geometry>
        <mesh filename="package://abby_description/meshes/bin_ipt.stl" scale="0.0254 0.0254 0.0254"/>
      </geometry>
      <origin rpy="0 0 0" xyz="0 0 0"/>
    </collision>
  </link>
  <joint name="frame-bin" type="fixed">
    <parent link="frame1"/>
    <child link="bin"/>
    <origin rpy="1.57079619722 0 -1.57079632679" xyz="-0.035 -0.474758386705 0.592669"/>
  </joint>
  <link name="tanks">
    <visual>
      <geometry>
        <cylinder length="0.50" radius="0.0275"/>
      </geometry>
      <material name="metal">
        <color rgba="0.752941 0.752941 0.752941 1"/>
      </material>
    </visual>
    <collision>
      <geometry>
        <cylinder length="0.50" radius="0.0275"/>
      </geometry>
    </collision>
  </link>
  <joint name="frame-tanks" type="fixed">
    <parent link="frame1"/>
    <child link="tanks"/>
    <origin rpy="0 0 0" xyz="0.16 -0.45 0.95"/>
  </joint>
  <link name="light">
    <visual>
      <geometry>
        <cylinder length="0.165" radius="0.075"/>
      </geometry>
      <material name="translucent_orange">
        <color rgba="1 0.43 0 0.5"/>
      </material>
    </visual>
    <collision>
      <geometry>
        <cylinder length="0.165" radius="0.075"/>
      </geometry>
    </collision>
  </link>
  <joint name="frame-light" type="fixed">
    <parent link="frame1"/>
    <child link="light"/>
    <origin rpy="0 1.571 0" xyz="0.215 -0.45 1.3"/>
  </joint>
</robot>
